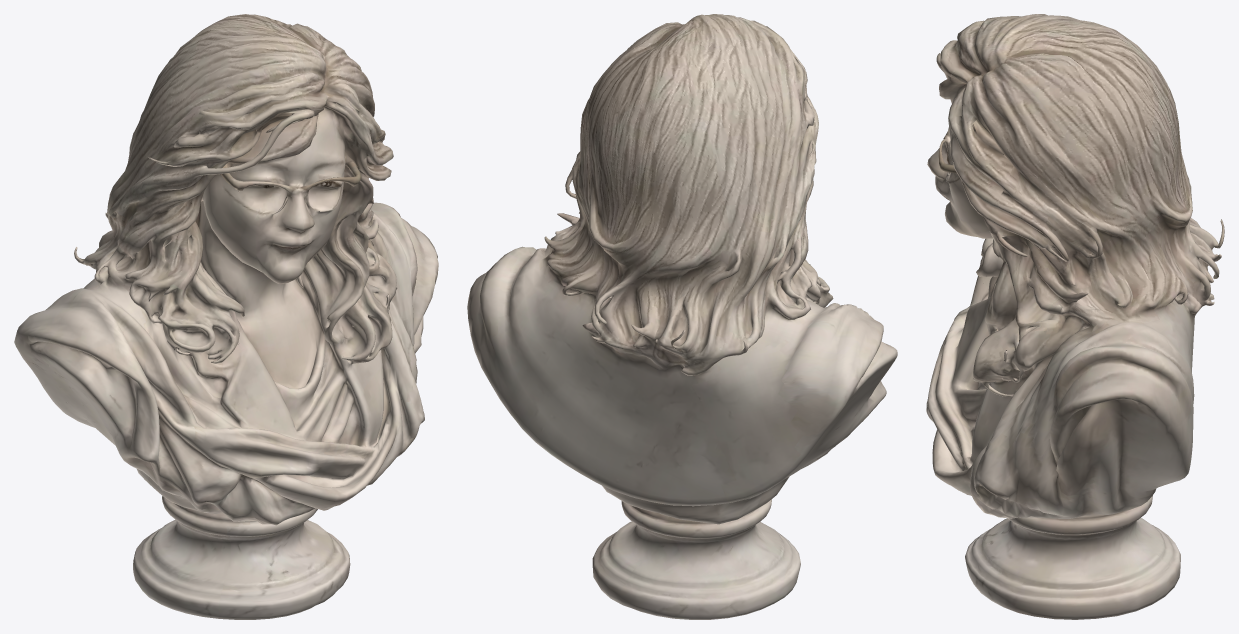
3 renders of one model, left to right at view 1: azimuth 30°, elevation 25°; view 2: azimuth 150°, elevation 25°; view 3: azimuth 270°, elevation 25°, orthographic. The views are drawn at different scales.
Visible parts, largest first — view 1: model; view 2: model; view 3: model.
Part boxes in pixels (left/top/right/bottom): model: left=14, top=14, right=438, bottom=619; model: left=467, top=14, right=897, bottom=619; model: left=926, top=14, right=1224, bottom=619.
Bounding box in the file's own units: 1.41 × 1.9 × 0.9179.
Materials: 1 (1 with a texture image).
